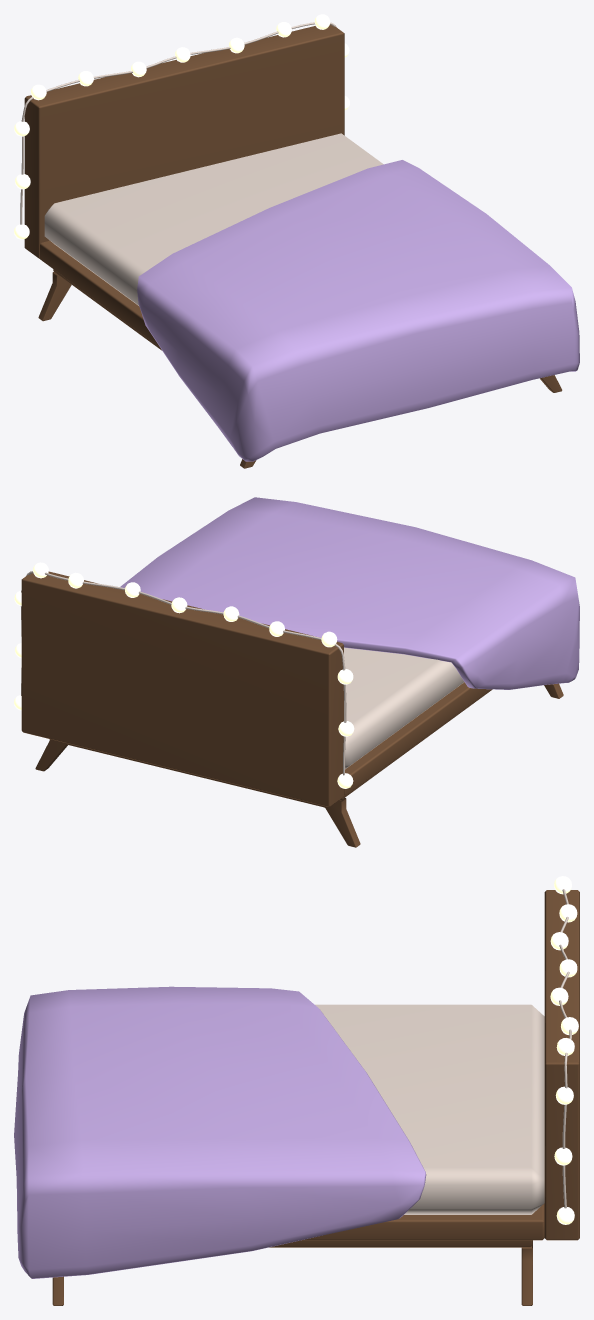
The model's file is Bed_4.glb.
3 renders of one model, top to bottom at view 1: azimuth 30°, elevation 25°; view 2: azimuth 150°, elevation 25°; view 3: azimuth 270°, elevation 25°, orthographic. The views are drawn at different scales.
Parts seen in each view (by area): view 1: Bed_4; view 2: Bed_4; view 3: Bed_4.
Part boxes in pixels (<box>): Bed_4: <box>14,14,579,468</box>; Bed_4: <box>14,497,579,847</box>; Bed_4: <box>14,876,579,1305</box>.
Size of the model in its own units: 2 by 1.23 by 2.47.
2 materials, 1 textured.
